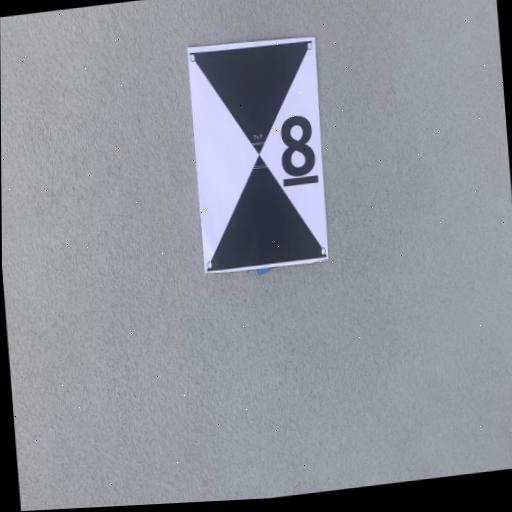target8: (187, 31, 332, 278)
